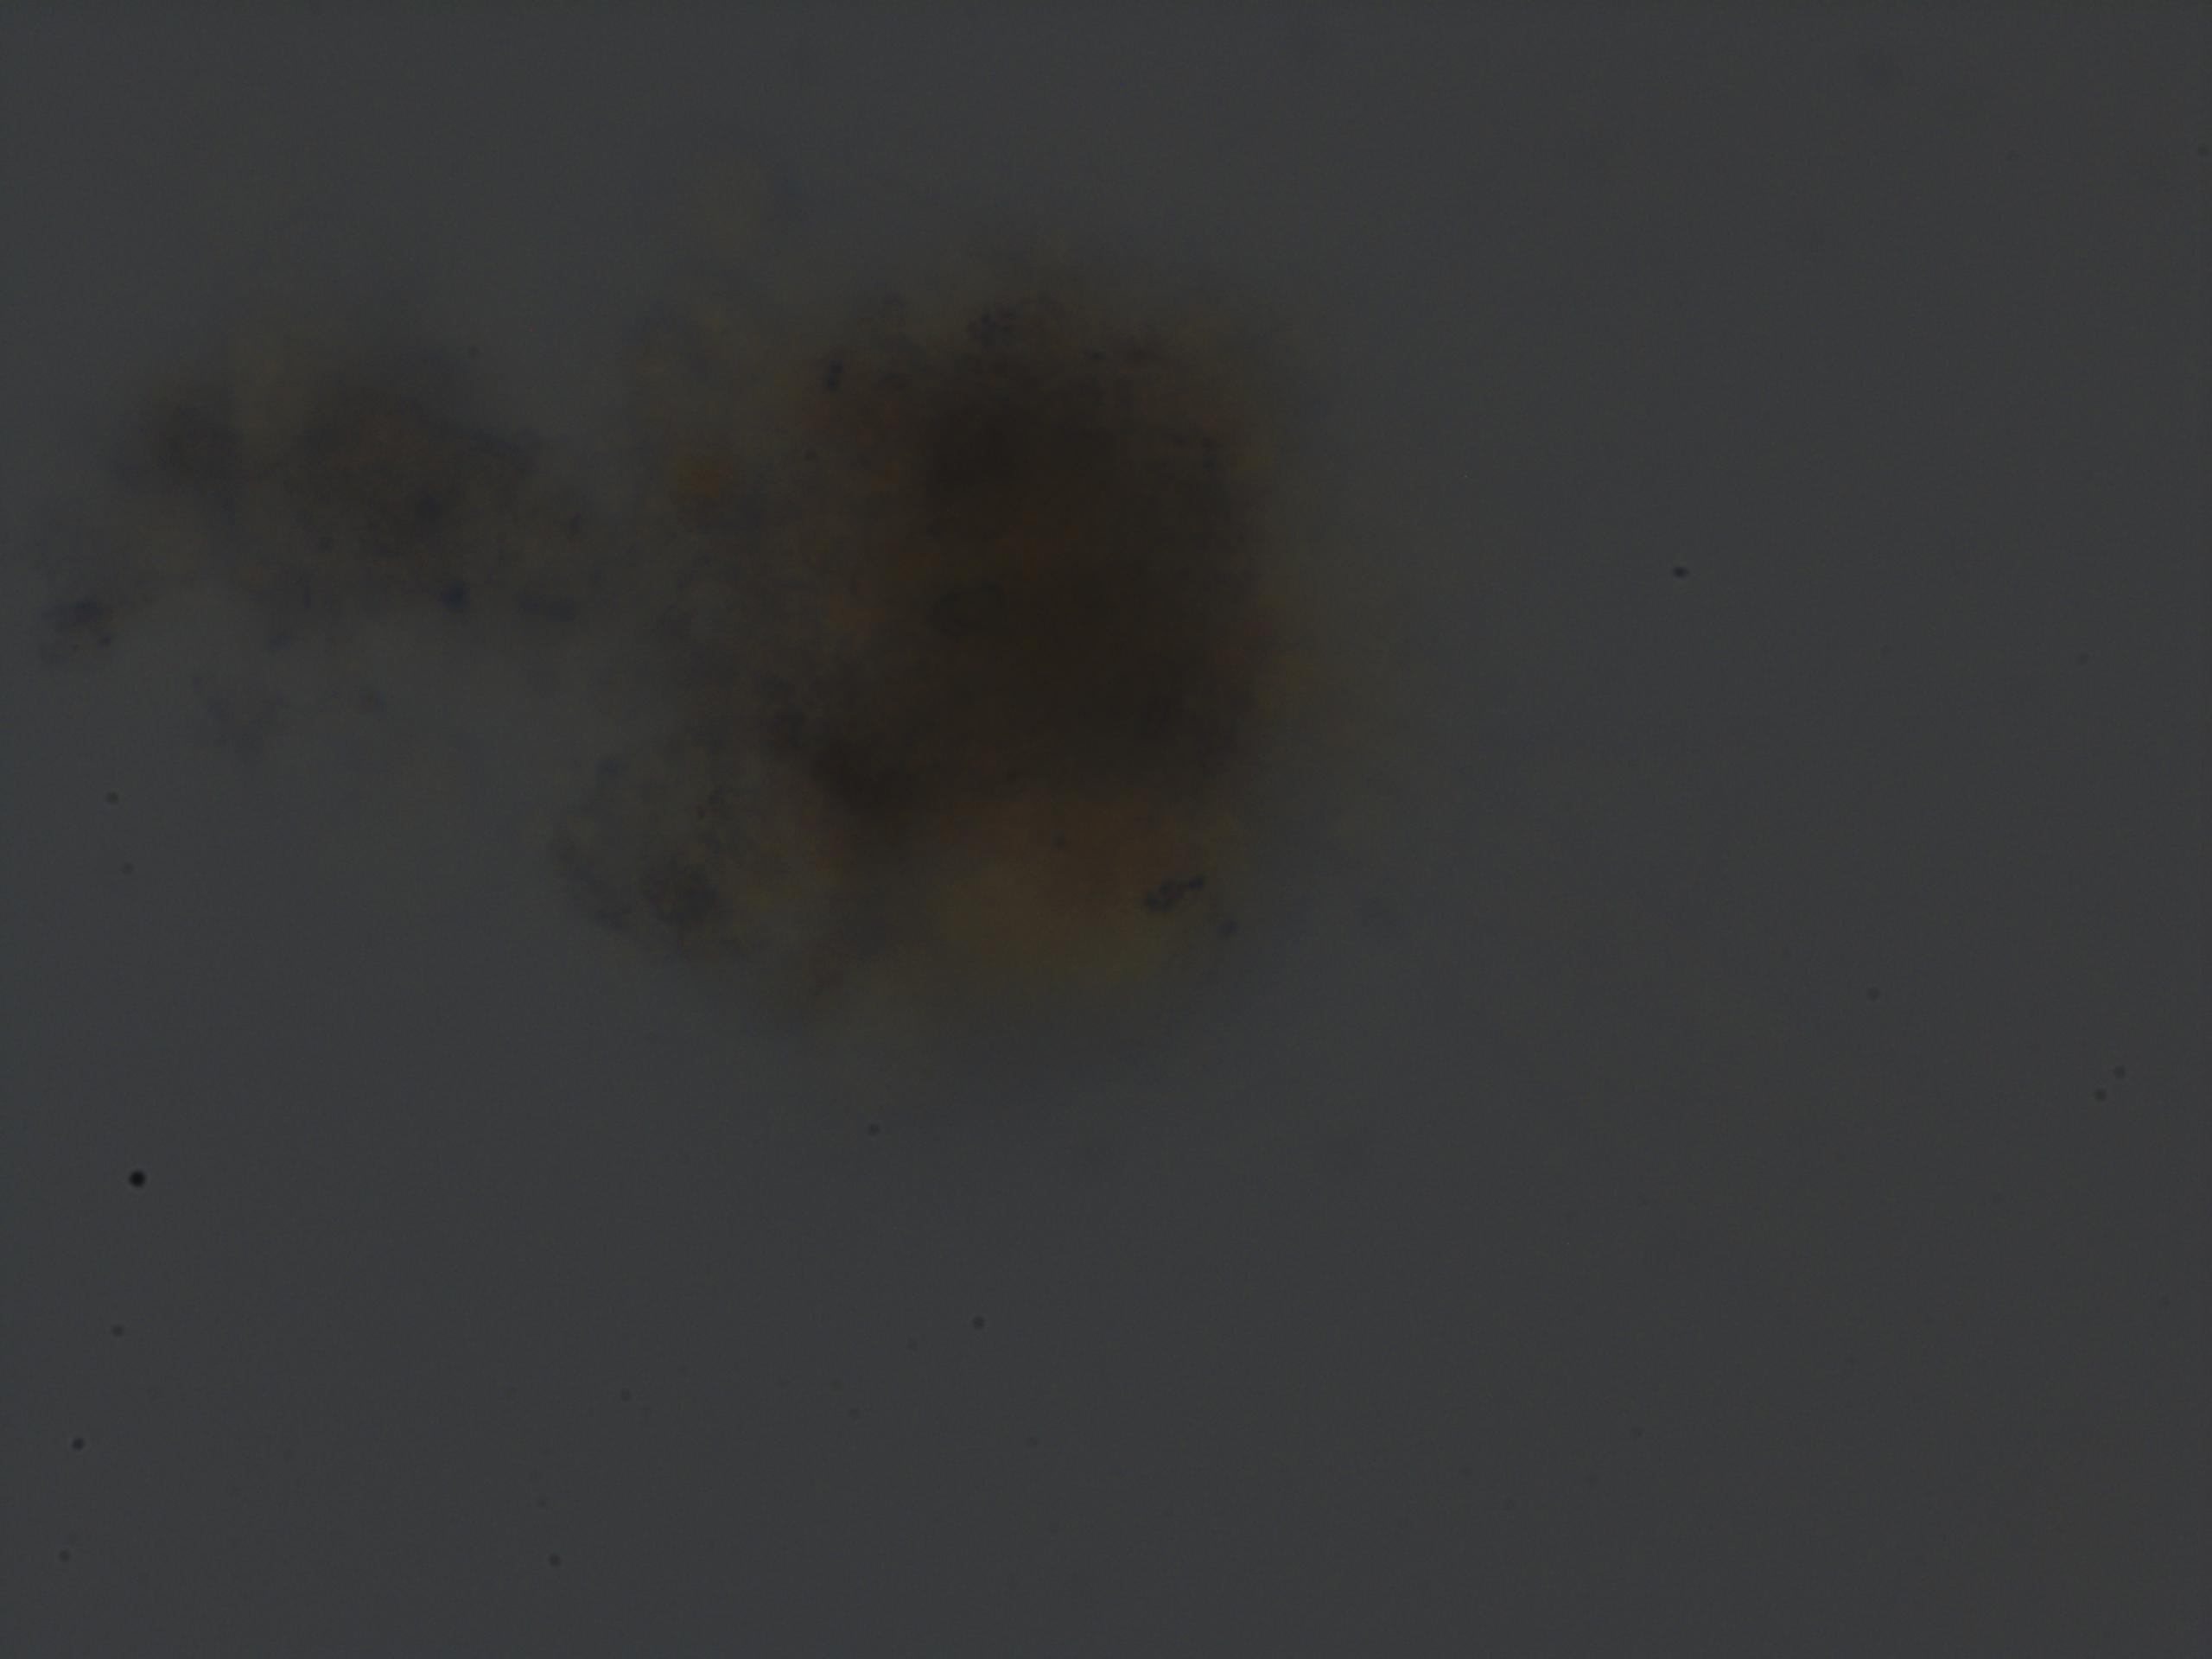spherical_floc: (559, 239, 1315, 1070)
